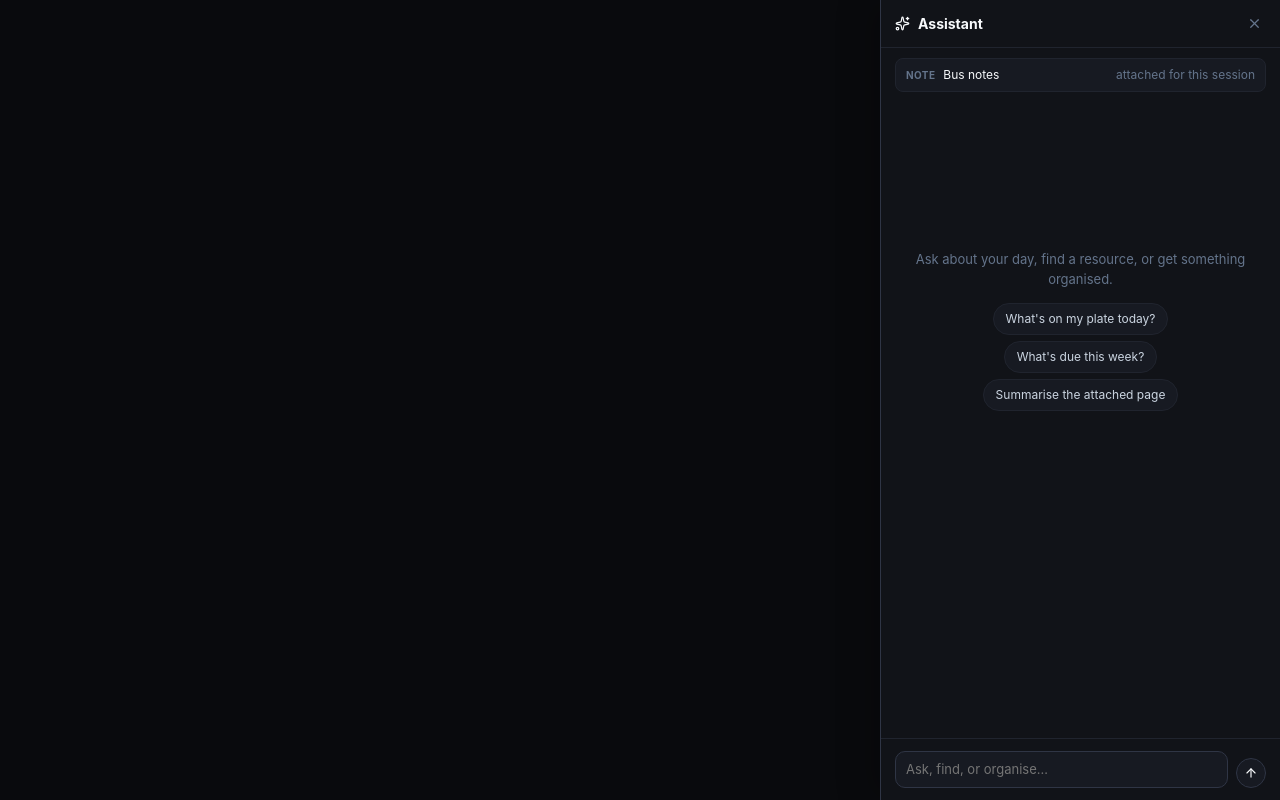
Test: AssistantPane › sends an attached resource with the conversation
Check: the text "Bus notes" is shown, box [943,66,1000,84]
Type "summarise this" into the text box with placeholder "Ask, find, or organise…" at (1062, 769), box [895,750,1228,788]
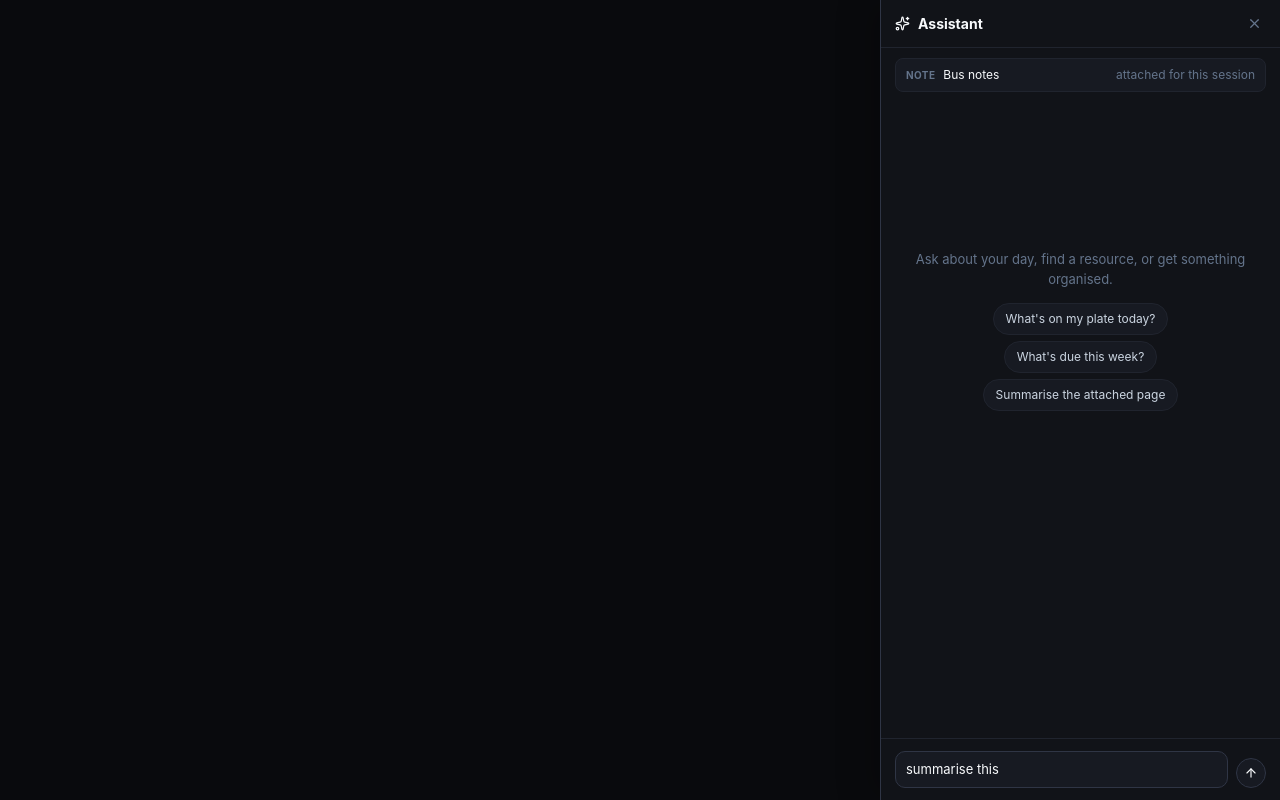
Press Enter in the text box with placeholder "Ask, find, or organise…", box [895,750,1228,788]
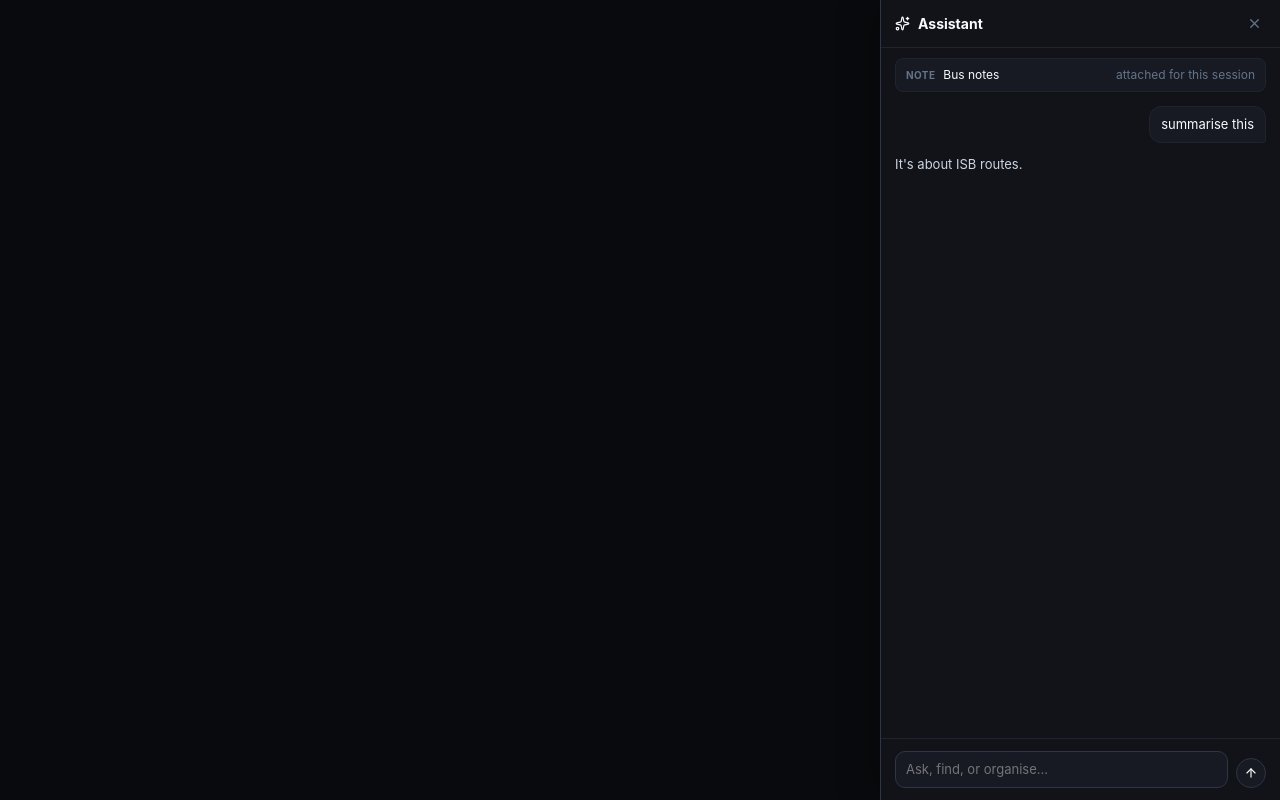
Check: the text "It's about ISB routes." is shown, box [895,155,1022,174]
